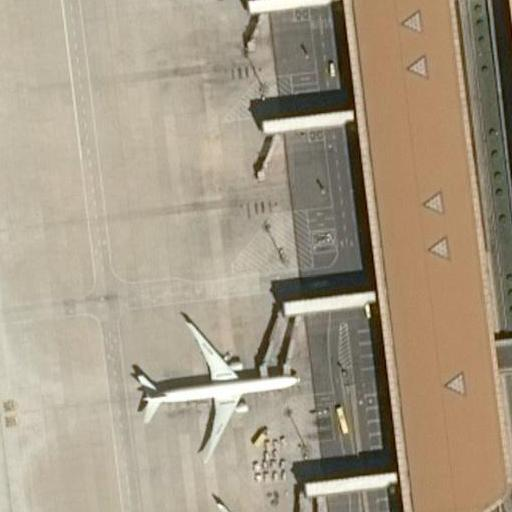Aircraft: (125, 308, 309, 464), (161, 499, 322, 512)
